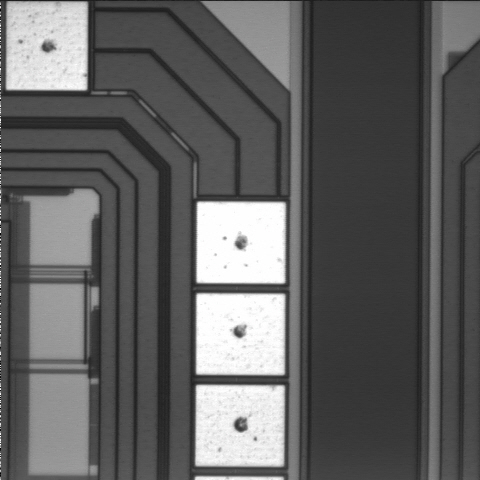pad: (196, 202, 286, 284), (195, 385, 285, 467), (196, 293, 285, 375), (6, 2, 87, 90)
